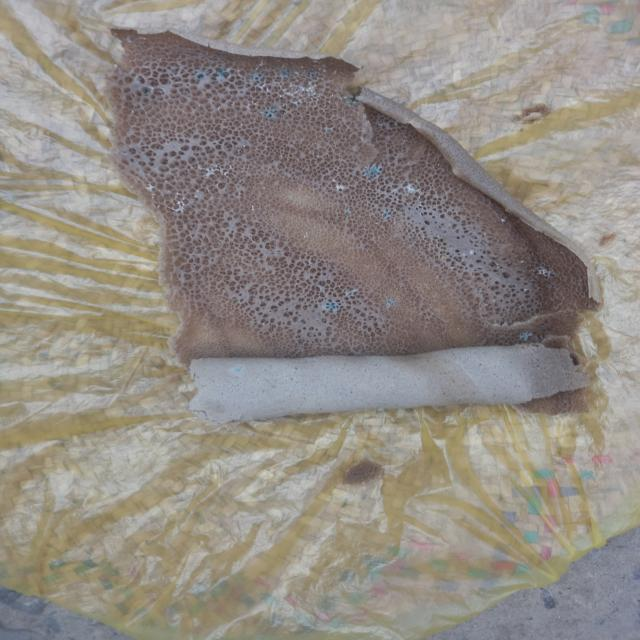injera_mold: (277, 81, 322, 105), (390, 181, 427, 198), (196, 164, 234, 178), (361, 162, 384, 183), (166, 192, 189, 213), (532, 265, 560, 280), (321, 302, 342, 314), (260, 107, 282, 118), (344, 286, 361, 298), (247, 72, 263, 84), (193, 68, 209, 79), (216, 66, 231, 77), (304, 70, 320, 80), (517, 332, 532, 342), (245, 100, 259, 110), (145, 181, 156, 192), (280, 69, 292, 79), (385, 299, 396, 309), (232, 365, 244, 374), (142, 86, 153, 95), (380, 211, 392, 218), (334, 183, 345, 190), (324, 126, 336, 132), (302, 231, 311, 238), (344, 208, 352, 215), (134, 76, 142, 82), (469, 249, 475, 256), (251, 205, 256, 212), (500, 218, 506, 223), (520, 259, 525, 264), (523, 288, 529, 292)
